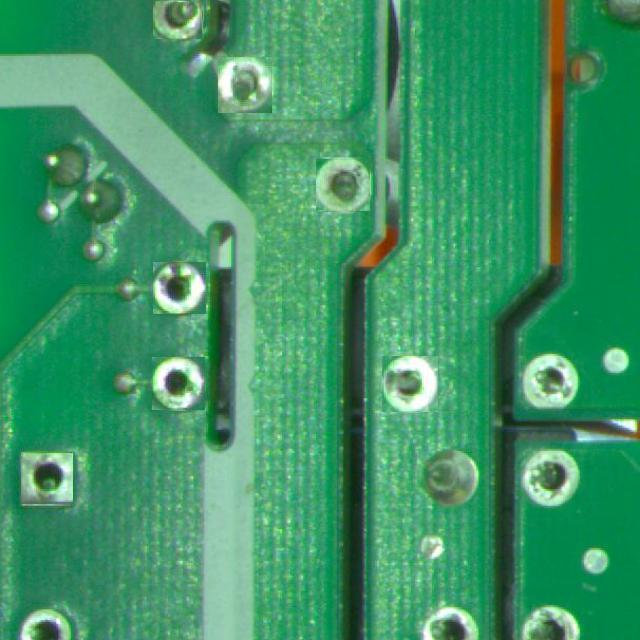low_solder: (382, 357, 438, 412), (218, 57, 272, 113), (152, 261, 206, 314), (152, 357, 205, 410), (317, 159, 370, 211), (20, 453, 73, 503), (154, 0, 201, 39)
